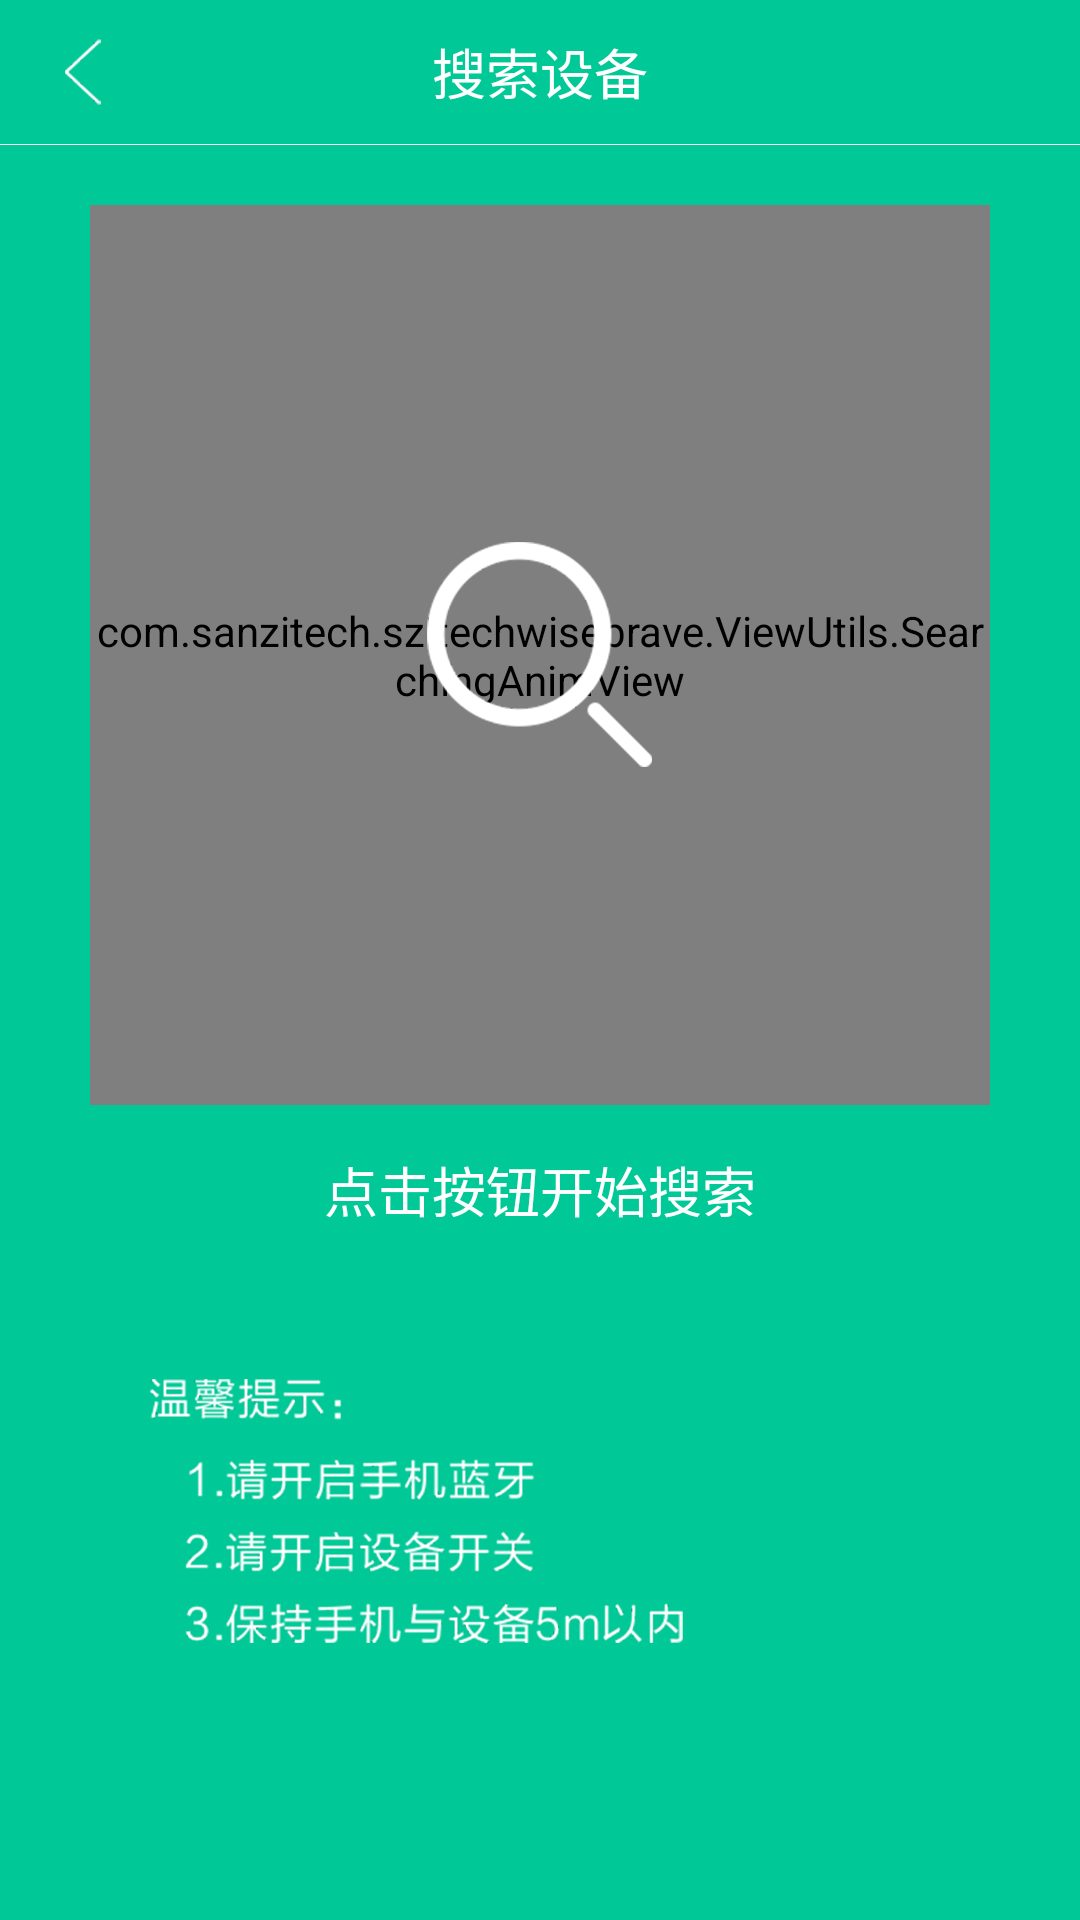

Icon bounding boxes for this 1080 x 1920 phone screenshot, format (x1, y1, x2, y2):
homepage back: (65, 39, 101, 105)
search magnifier: (427, 542, 652, 767)
